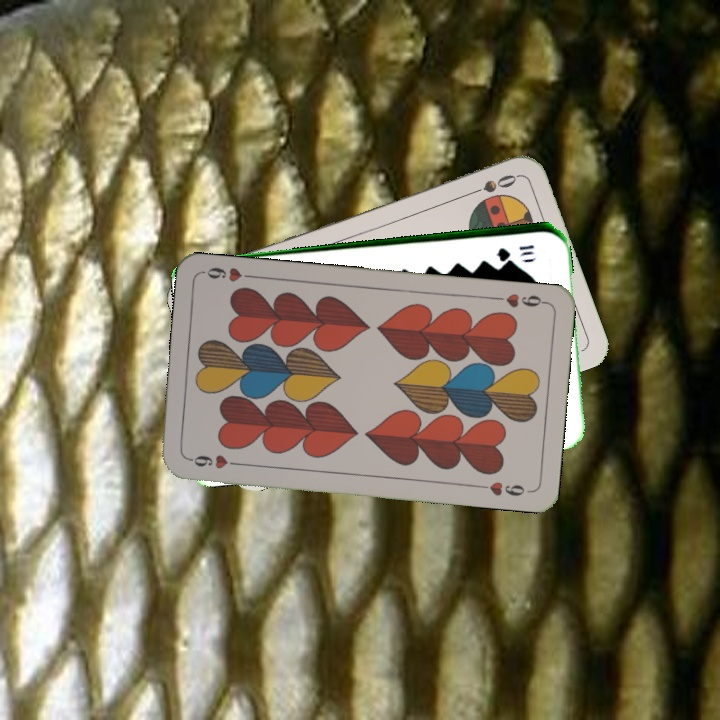G10: (493, 241, 537, 261)
H9: (185, 450, 244, 472), (490, 289, 549, 310)
SO: (463, 170, 520, 199)
